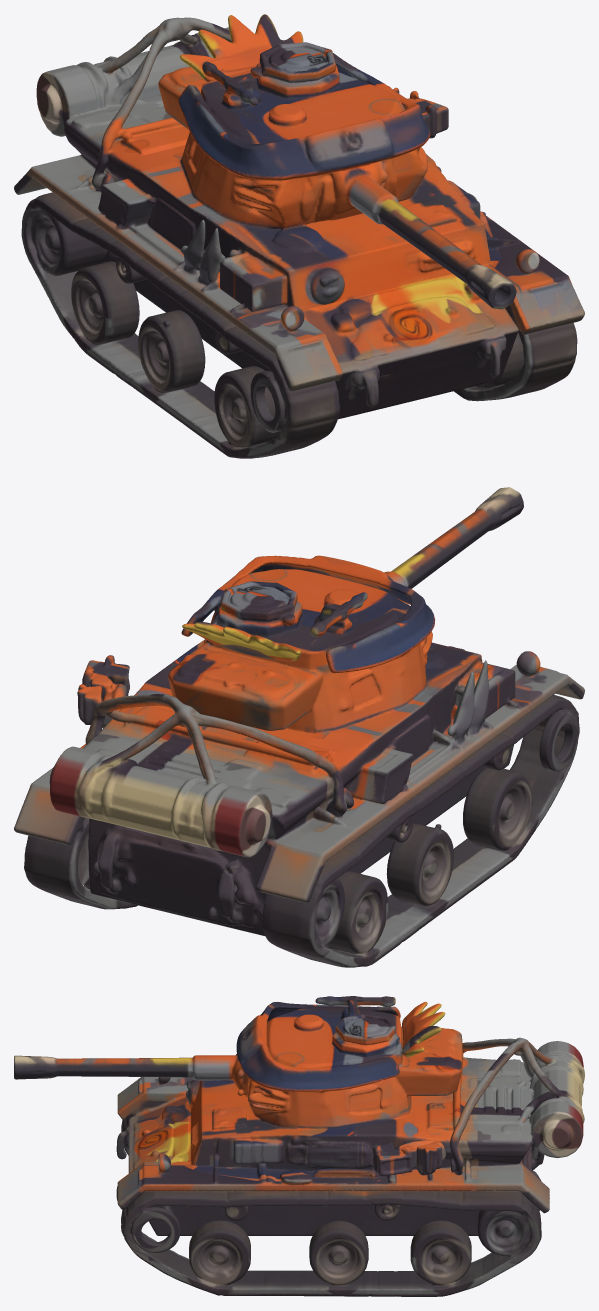
File: tripo_convert_79e19c4a-ca70-4b3a-b3ea-efc94ff97765.fbx
3 views of the same model, one above another, from view 1: azimuth 30°, elevation 25°; view 2: azimuth 150°, elevation 25°; view 3: azimuth 270°, elevation 25° (orthographic). The views are drawn at different scales.
Parts seen in each view (by area): view 1: tripo_node_79e19c4a; view 2: tripo_node_79e19c4a; view 3: tripo_node_79e19c4a.
Boxes of the visible parts, <box> form: tripo_node_79e19c4a: <box>14,14,584,458</box>; tripo_node_79e19c4a: <box>14,487,584,967</box>; tripo_node_79e19c4a: <box>14,996,584,1296</box>.
Size of the model in its own units: 0.5132 by 0.4528 by 1.
1 material, 1 textured.
